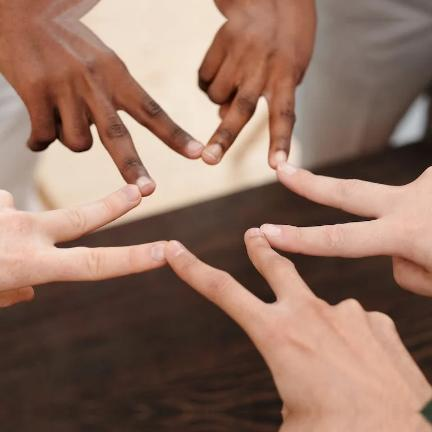Nail: (120, 184, 141, 202), (204, 142, 223, 161), (136, 173, 154, 192), (150, 242, 167, 262), (167, 240, 187, 257), (271, 149, 288, 167), (278, 160, 298, 175), (261, 224, 283, 235), (187, 138, 204, 151), (247, 227, 264, 239)
